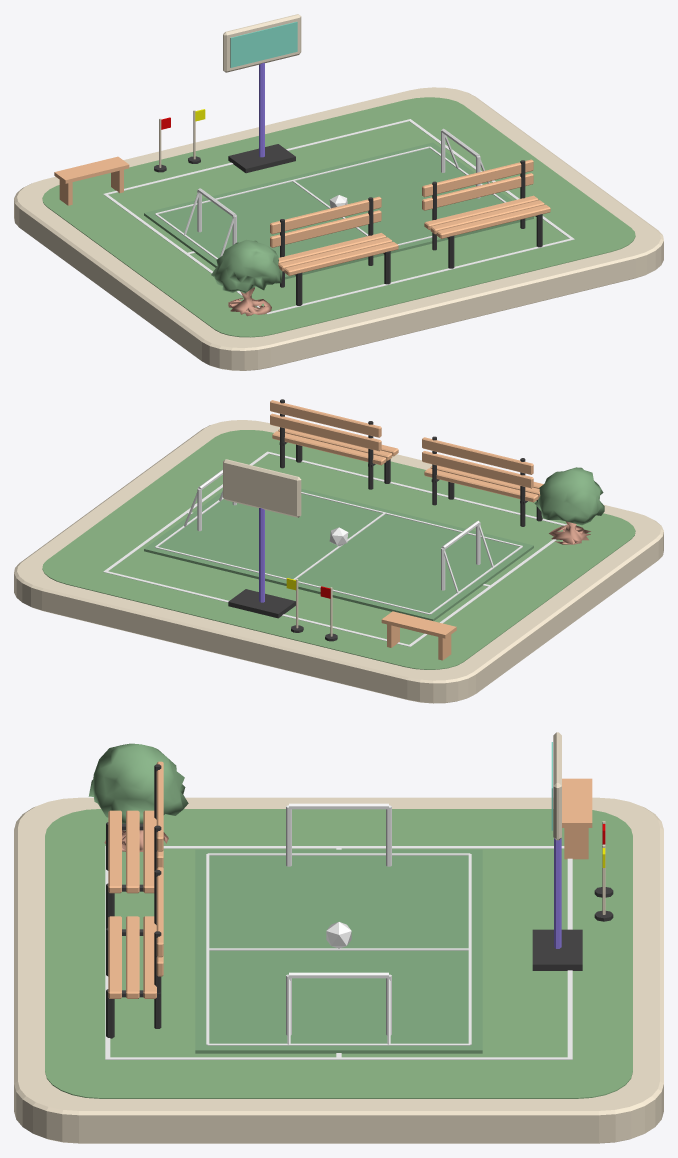
Rendered from room.fbx.
3 views of the same model, one above another, from view 1: azimuth 30°, elevation 25°; view 2: azimuth 150°, elevation 25°; view 3: azimuth 270°, elevation 25° (orthographic). The views are drawn at different scales.
Parts seen in each view (by area): view 1: COM-02 Floor Surface, COM-01 Rounded Base Direct, Court surface, 둥근 수관 나무, Inset, Sign panel, Back slat, Back slat.001, Back slat.002, Back slat.003, Foot, Seat slat (+10 smaller); view 2: COM-02 Floor Surface, COM-01 Rounded Base Direct, Court surface, 둥근 수관 나무, Sign panel, Back slat.002, Back slat.003, Back slat.001, Back slat, Foot, Bench seat, Seat slat.002 (+10 smaller); view 3: COM-02 Floor Surface, Court surface, COM-01 Rounded Base Direct, 둥근 수관 나무, Foot, Bench seat, Court outer line.001, Seat slat, Seat slat.001, Seat slat.003, Seat slat.004, Court outer line (+15 smaller).
Part boxes in pixels (x1=…): COM-02 Floor Surface: x1=42, y1=97, x2=635, y2=337; COM-01 Rounded Base Direct: x1=14, y1=87, x2=663, y2=370; Court surface: x1=144, y1=142, x2=533, y2=286; 둥근 수관 나무: x1=211, y1=239, x2=282, y2=316; Inset: x1=230, y1=21, x2=297, y2=67; Sign panel: x1=223, y1=14, x2=301, y2=72; Back slat: x1=270, y1=210, x2=381, y2=247; Back slat.001: x1=270, y1=196, x2=381, y2=234; Back slat.002: x1=422, y1=173, x2=533, y2=210; Back slat.003: x1=422, y1=159, x2=533, y2=197; Foot: x1=228, y1=144, x2=295, y2=173; Seat slat: x1=284, y1=242, x2=398, y2=275; COM-02 Floor Surface: x1=42, y1=430, x2=635, y2=669; COM-01 Rounded Base Direct: x1=14, y1=420, x2=663, y2=703; Court surface: x1=144, y1=489, x2=533, y2=621; 둥근 수관 나무: x1=534, y1=467, x2=604, y2=544; Sign panel: x1=223, y1=459, x2=301, y2=517; Back slat.002: x1=270, y1=413, x2=381, y2=451; Back slat.003: x1=270, y1=400, x2=381, y2=437; Back slat.001: x1=422, y1=437, x2=533, y2=474; Back slat: x1=422, y1=451, x2=533, y2=488; Foot: x1=228, y1=589, x2=295, y2=618; Bench seat: x1=381, y1=611, x2=456, y2=638; Seat slat.002: x1=424, y1=468, x2=538, y2=502; COM-02 Floor Surface: x1=45, y1=809, x2=632, y2=1098; Court surface: x1=195, y1=849, x2=482, y2=1053; COM-01 Rounded Base Direct: x1=14, y1=797, x2=663, y2=1143; 둥근 수관 나무: x1=88, y1=743, x2=188, y2=851; Foot: x1=532, y1=929, x2=582, y2=970; Bench seat: x1=562, y1=778, x2=592, y2=827; Court outer line.001: x1=107, y1=1057, x2=570, y2=1059; Seat slat: x1=108, y1=810, x2=121, y2=893; Seat slat.001: x1=126, y1=810, x2=139, y2=893; Seat slat.003: x1=108, y1=916, x2=121, y2=998; Seat slat.004: x1=126, y1=916, x2=139, y2=998; Court outer line: x1=163, y1=846, x2=564, y2=848.
Bounding box in the file's own units: 600 × 202 × 520.
